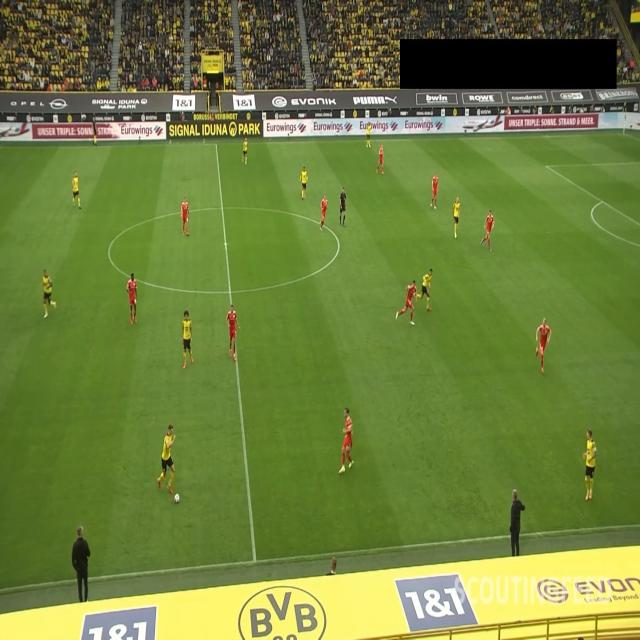ball: (173, 492, 180, 505)
